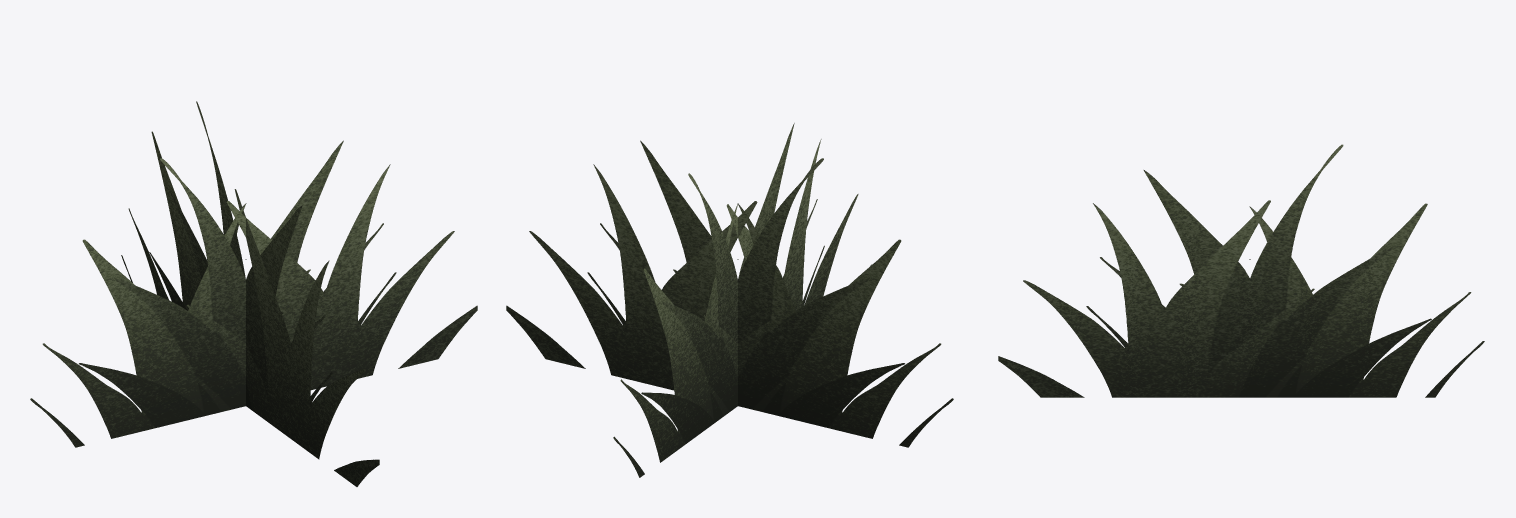
Rendered from Grass.fbx.
3 renders of one model, left to right at view 1: azimuth 30°, elevation 25°; view 2: azimuth 150°, elevation 25°; view 3: azimuth 270°, elevation 25°, orthographic. The views are drawn at different scales.
Visible parts, largest first — view 1: pPlane3, pPlane4; view 2: pPlane3, pPlane4; view 3: pPlane4.
Part boxes in pixels (x1,y1,x2,y2): pPlane3: (30,140,477,447); pPlane4: (121,101,379,486); pPlane3: (506,140,953,447); pPlane4: (613,123,871,477); pPlane4: (998,144,1484,397).
Bounding box in the file's own units: 228 × 138 × 228.
1 material, 1 textured.
